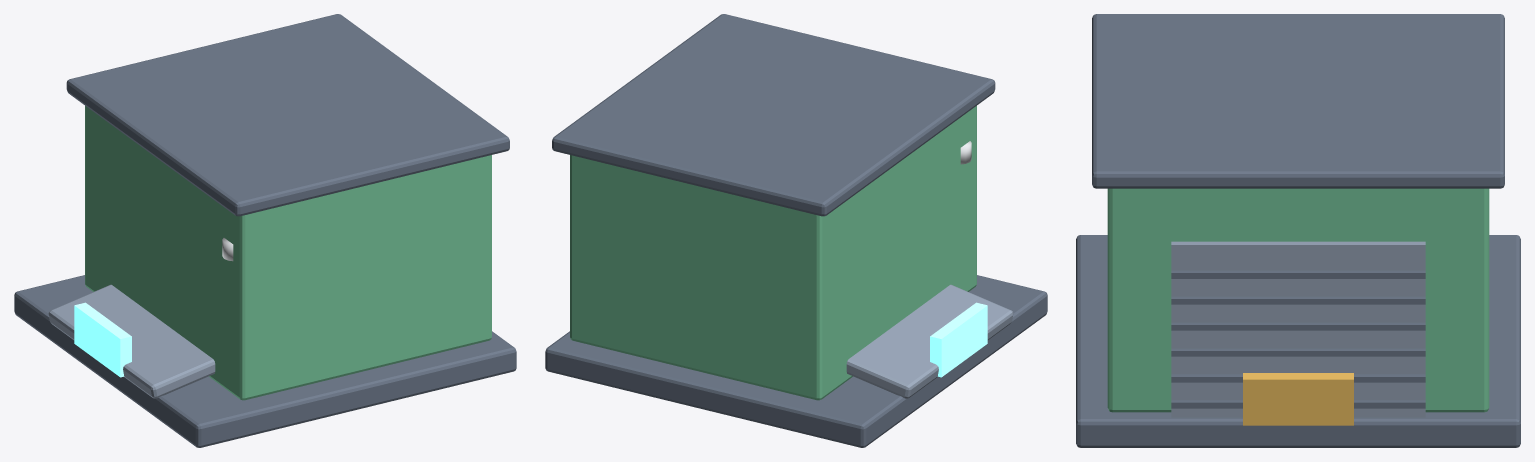
File: despacho.glb
3 renders of one model, left to right at view 1: azimuth 30°, elevation 25°; view 2: azimuth 150°, elevation 25°; view 3: azimuth 270°, elevation 25°, orthographic. The views are drawn at different scales.
Visible parts, largest first — view 1: nave, tejado, base, rampa, puerto_entrada; view 2: nave, tejado, base, rampa, puerto_entrada; view 3: tejado, nave, puerta, base, puerto_salida, lama_2, lama_3, lama_4, lama_5, lama_0, lama_1.
Part boxes in pixels (x1=…): nave: x1=85, y1=106, x2=491, y2=400; tejado: x1=66, y1=14, x2=509, y2=216; base: x1=14, y1=275, x2=516, y2=447; rampa: x1=48, y1=284, x2=215, y2=398; puerto_entrada: x1=74, y1=302, x2=131, y2=377; nave: x1=570, y1=106, x2=976, y2=400; tejado: x1=552, y1=14, x2=995, y2=216; base: x1=545, y1=275, x2=1047, y2=447; rampa: x1=846, y1=284, x2=1013, y2=398; puerto_entrada: x1=930, y1=302, x2=987, y2=377; tejado: x1=1092, y1=14, x2=1504, y2=188; nave: x1=1107, y1=188, x2=1489, y2=412; puerta: x1=1171, y1=241, x2=1425, y2=417; base: x1=1076, y1=235, x2=1520, y2=447; puerto_salida: x1=1243, y1=373, x2=1353, y2=425; lama_2: x1=1171, y1=348, x2=1425, y2=356; lama_3: x1=1171, y1=322, x2=1425, y2=330; lama_4: x1=1171, y1=296, x2=1425, y2=304; lama_5: x1=1171, y1=270, x2=1425, y2=278; lama_0: x1=1171, y1=400, x2=1425, y2=408; lama_1: x1=1171, y1=374, x2=1425, y2=382.
Bounding box in the file's own units: 2.94 × 1.92 × 2.8.
